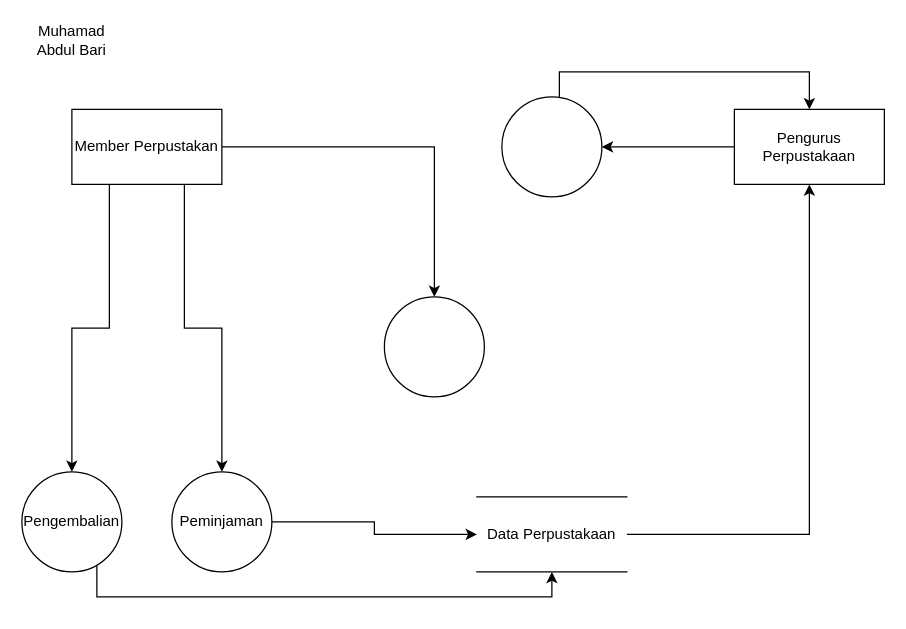
Image size: 906x629. Some labels were removed from this diagram. Each missing label, with the centre of its shape:
"Membuat Laporan" goes at (551,146).
"Pendaftaran" goes at (433,346).
